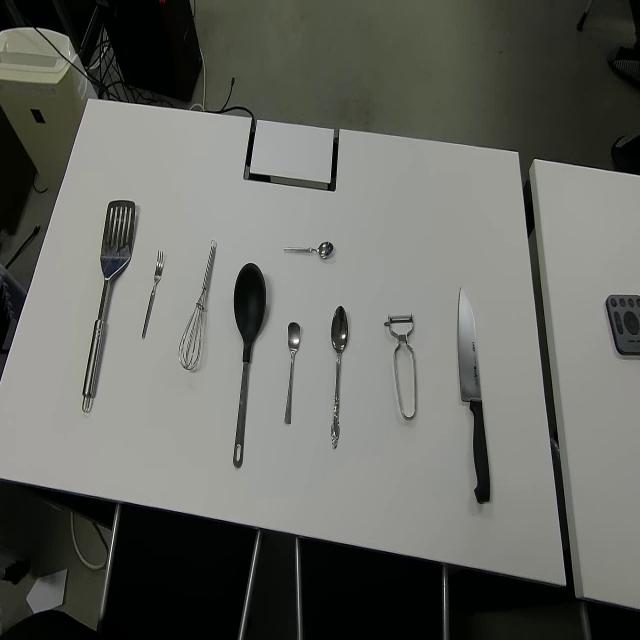Desert-Spoon: (330, 304, 349, 452)
Dinner-Fork: (141, 247, 166, 342)
Kitchen-Knife: (457, 285, 490, 505)
Peeler: (384, 309, 418, 422)
Serving-Spoon: (80, 198, 136, 416), (232, 260, 267, 470)
Tea-Spoon: (283, 319, 301, 426), (282, 237, 334, 260)
Whisk: (178, 237, 216, 372)
